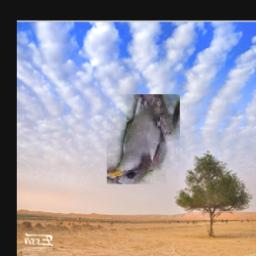Cuckoo: (107, 94, 180, 184)
